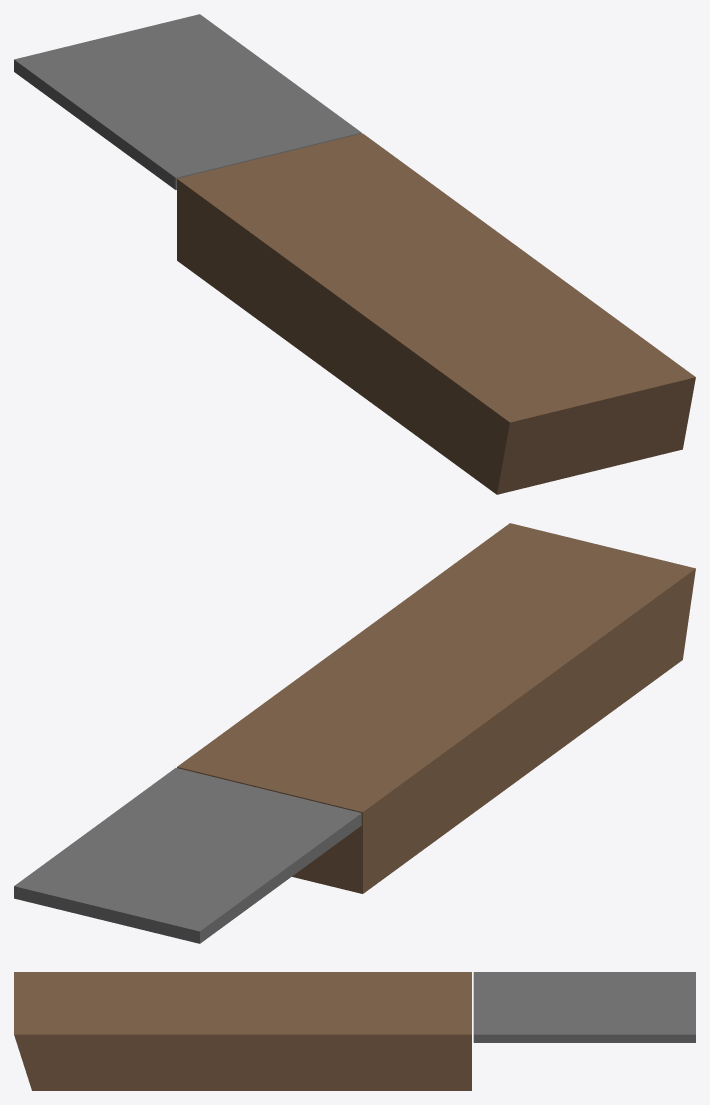
Rendered from VisioSlideRamp.fbx.
3 renders of one model, top to bottom at view 1: azimuth 30°, elevation 25°; view 2: azimuth 150°, elevation 25°; view 3: azimuth 270°, elevation 25°, orthographic. The views are drawn at different scales.
Visible parts, largest first — view 1: Rampwood, RampMetal; view 2: Rampwood, RampMetal; view 3: Rampwood, RampMetal.
Part boxes in pixels (<box>): Rampwood: <box>177,133,695,494</box>; RampMetal: <box>14,14,361,189</box>; Rampwood: <box>177,523,695,893</box>; RampMetal: <box>14,768,361,943</box>; Rampwood: <box>14,972,471,1090</box>; RampMetal: <box>473,972,695,1042</box>.
Bounding box in the file's own units: 1.33 × 0.5584 × 6.13.
